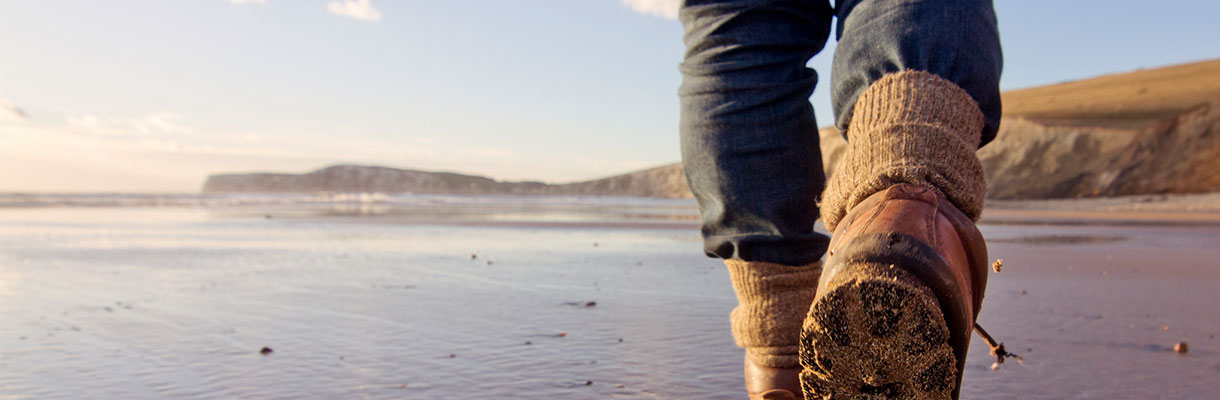feet: (678, 114, 1013, 400)
